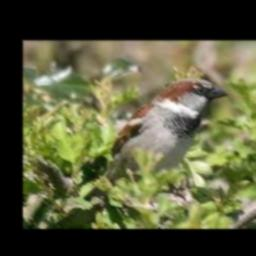Sparrow: (102, 78, 229, 182)
